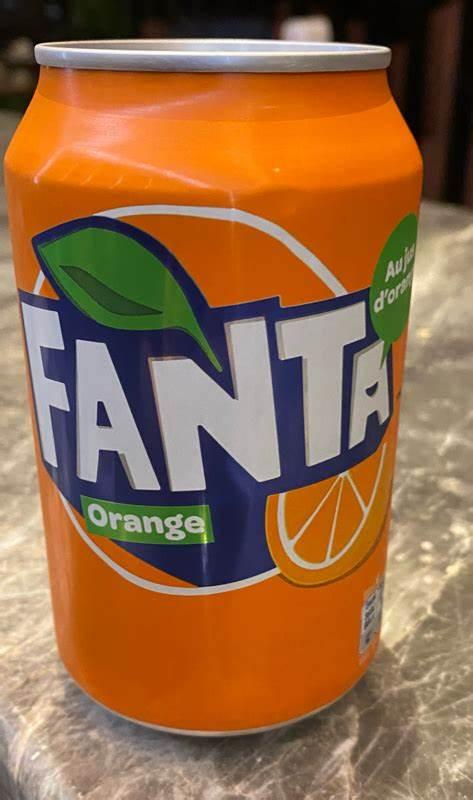metal: (5, 38, 420, 736)
